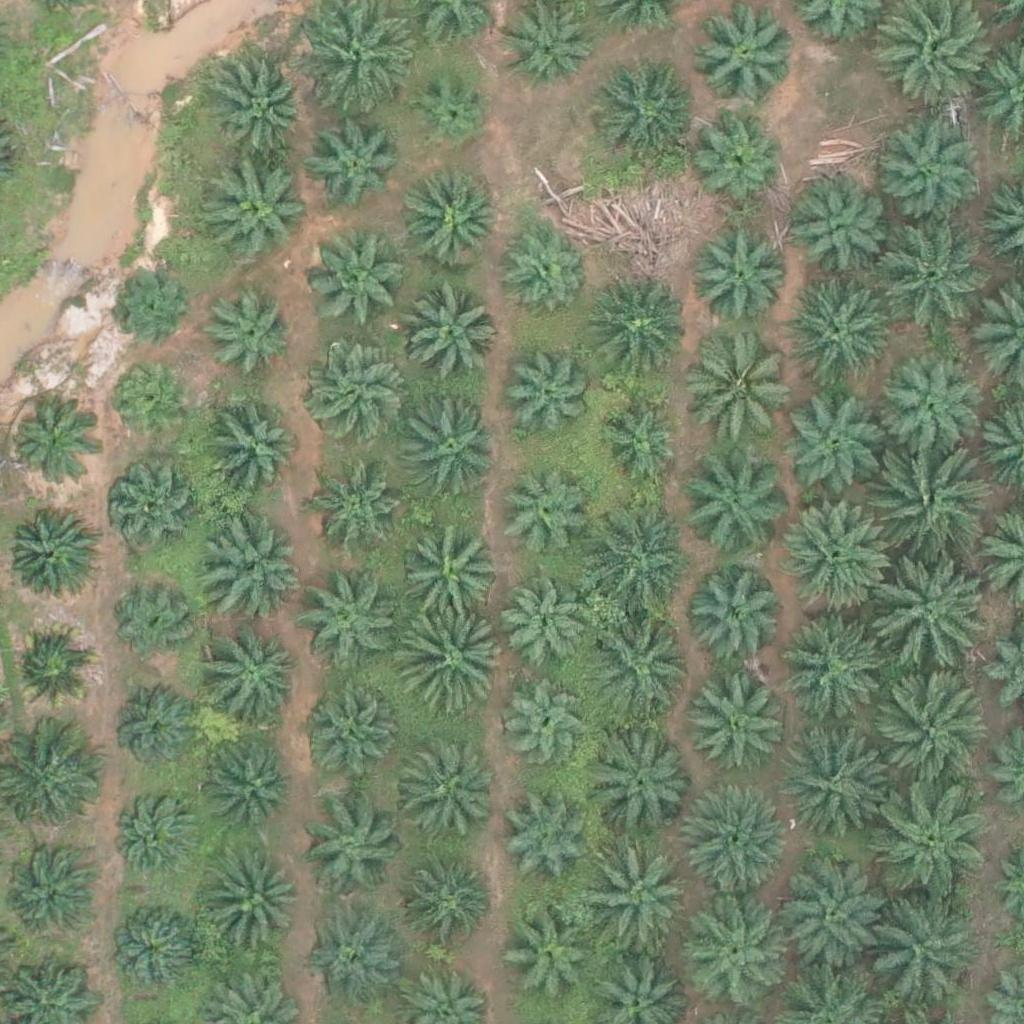Kelapa_Sawit: (780, 723, 893, 837), (870, 449, 983, 562), (879, 678, 992, 791), (773, 859, 886, 972), (780, 613, 893, 726), (677, 450, 790, 563), (679, 785, 792, 898), (585, 847, 698, 960), (583, 605, 696, 718), (584, 505, 697, 618), (778, 271, 891, 384), (874, 783, 986, 897), (394, 604, 506, 718), (876, 561, 988, 674), (865, 893, 977, 1006), (779, 497, 891, 610), (877, 221, 989, 334), (871, 111, 983, 224), (687, 334, 799, 447), (682, 568, 782, 669), (690, 672, 790, 773), (686, 909, 786, 1010), (593, 736, 693, 837), (405, 528, 505, 629), (297, 576, 397, 677), (299, 686, 399, 787), (204, 622, 304, 723), (881, 357, 981, 458), (788, 178, 888, 279), (781, 392, 881, 493), (693, 226, 793, 327), (696, 1, 796, 102), (592, 61, 692, 162), (305, 342, 405, 443), (197, 283, 297, 384), (393, 739, 493, 839), (302, 796, 402, 896), (302, 920, 402, 1020), (203, 403, 303, 503), (206, 519, 306, 619), (207, 856, 307, 956), (105, 901, 205, 1001), (587, 280, 687, 380), (401, 169, 501, 269), (401, 282, 501, 382), (400, 397, 500, 497), (309, 227, 409, 327), (213, 57, 313, 157), (204, 163, 304, 263), (496, 472, 584, 560), (500, 584, 588, 672), (505, 910, 593, 998), (398, 855, 486, 943), (319, 473, 407, 561), (206, 739, 294, 827), (107, 360, 195, 448), (111, 578, 199, 666), (112, 690, 200, 778), (112, 795, 200, 883), (596, 393, 684, 481), (506, 3, 594, 91), (502, 681, 589, 769), (503, 800, 590, 888), (109, 461, 196, 549), (11, 402, 98, 490), (7, 507, 94, 595), (7, 625, 94, 713), (4, 846, 91, 934), (696, 113, 783, 201), (503, 347, 590, 435), (500, 224, 587, 312), (310, 124, 397, 212), (109, 261, 196, 349), (414, 73, 489, 149)
